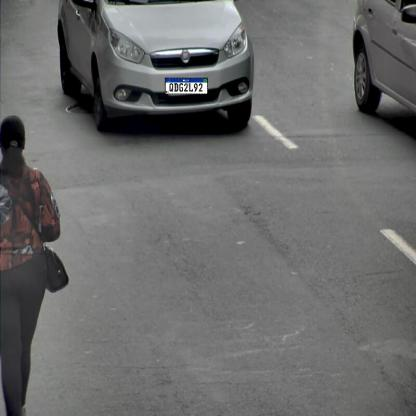PlacaM: (165, 78, 208, 94)
